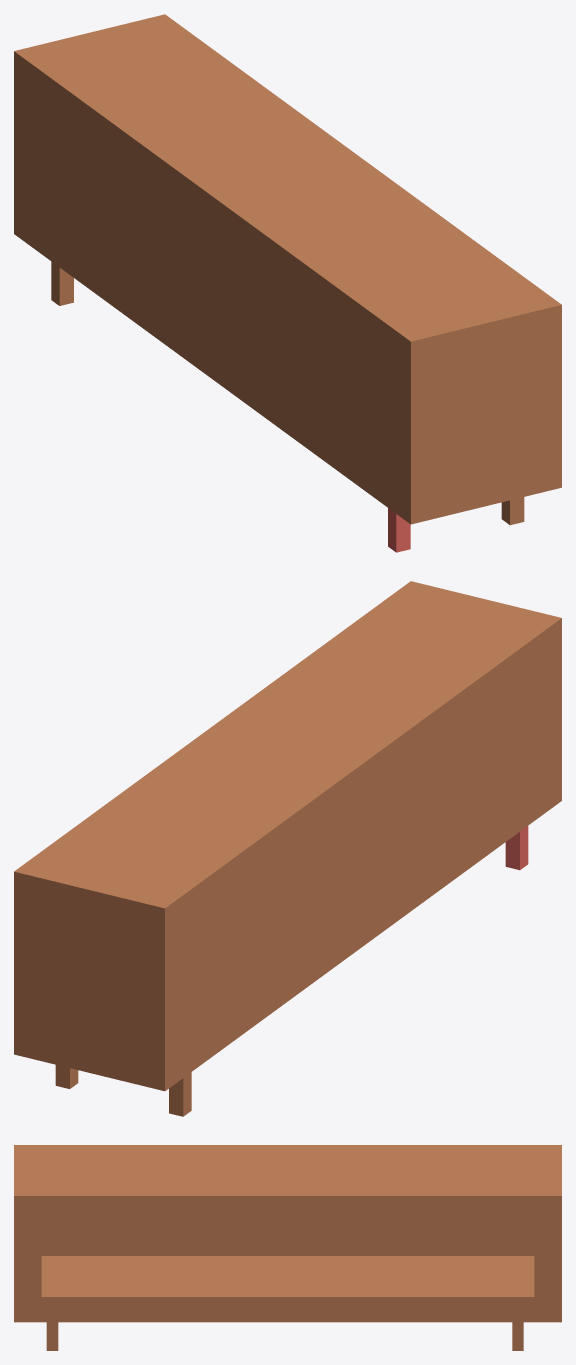
The model's file is unit.fbx.
The picture shows the model from 3 angles, top to bottom: view 1: azimuth 30°, elevation 25°; view 2: azimuth 150°, elevation 25°; view 3: azimuth 270°, elevation 25°; orthographic projection. The views are drawn at different scales.
Visible parts, largest first — view 1: Cube.043, Cube.052, Cube.053; view 2: Cube.043, Cube.053, Cube.052; view 3: Cube.043, Cube.121, Cube.051.
Boxes of the visible parts, <box> form: Cube.043: <box>14,14,561,524</box>; Cube.052: <box>51,261,73,305</box>; Cube.053: <box>388,508,410,552</box>; Cube.043: <box>14,581,561,1091</box>; Cube.053: <box>505,826,528,870</box>; Cube.052: <box>169,1072,191,1116</box>; Cube.043: <box>14,1145,561,1322</box>; Cube.121: <box>46,1322,58,1350</box>; Cube.051: <box>512,1322,523,1350</box>.
Bounding box in the file's own units: 46.06 × 67.29 × 210.
